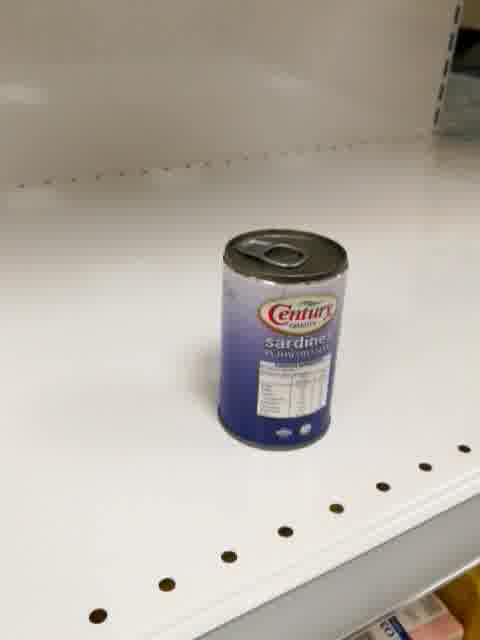sardine: (219, 226, 347, 454)
